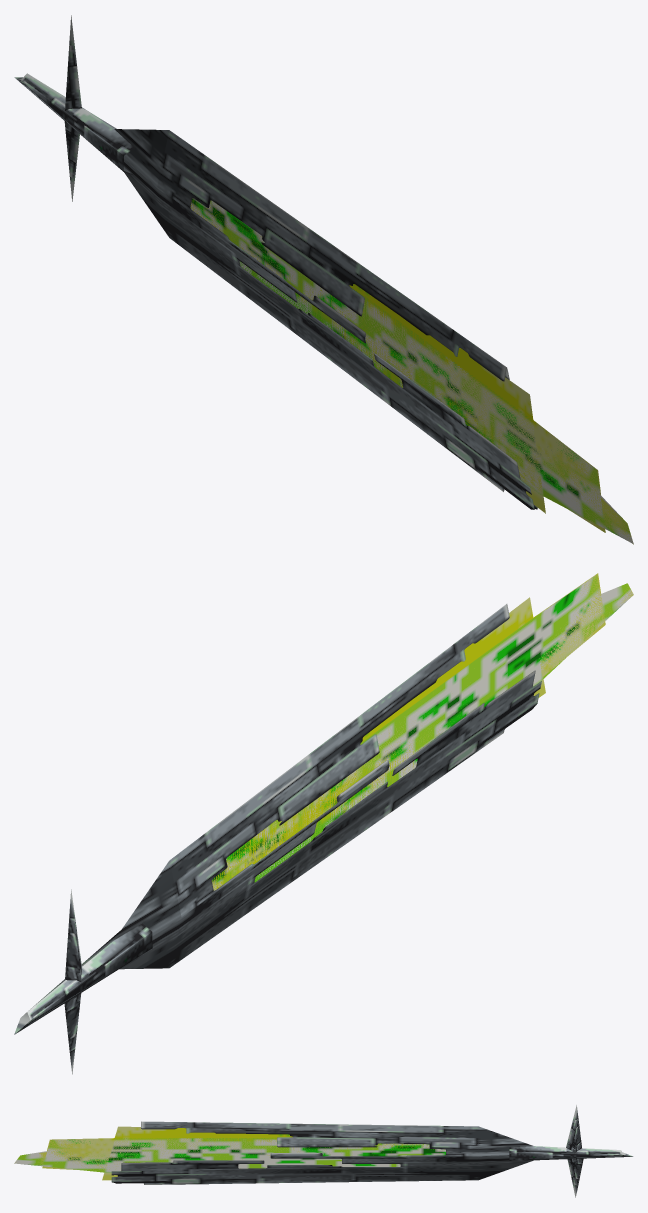
File: SigmaBlade.obj
The picture shows the model from 3 angles, top to bottom: view 1: azimuth 30°, elevation 25°; view 2: azimuth 150°, elevation 25°; view 3: azimuth 270°, elevation 25°; orthographic projection. The views are drawn at different scales.
Parts seen in each view (by area): view 1: SigmaBlade, SigmaEnrgy, SigmaEnrgy2; view 2: SigmaBlade, SigmaEnrgy, SigmaEnrgy2; view 3: SigmaBlade, SigmaEnrgy, SigmaEnrgy2.
Part boxes in pixels (x1,y1,x2,y2): SigmaBlade: (14,15,537,509); SigmaEnrgy: (190,198,633,543); SigmaEnrgy2: (191,199,633,544); SigmaBlade: (14,604,541,1074); SigmaEnrgy: (212,575,633,890); SigmaEnrgy2: (212,573,633,889); SigmaBlade: (111,1105,633,1197); SigmaEnrgy: (14,1137,445,1172); SigmaEnrgy2: (14,1126,444,1180).
Bounding box in the file's own units: 0.8242 × 5.48 × 32.68.
3 materials, 3 textured.
